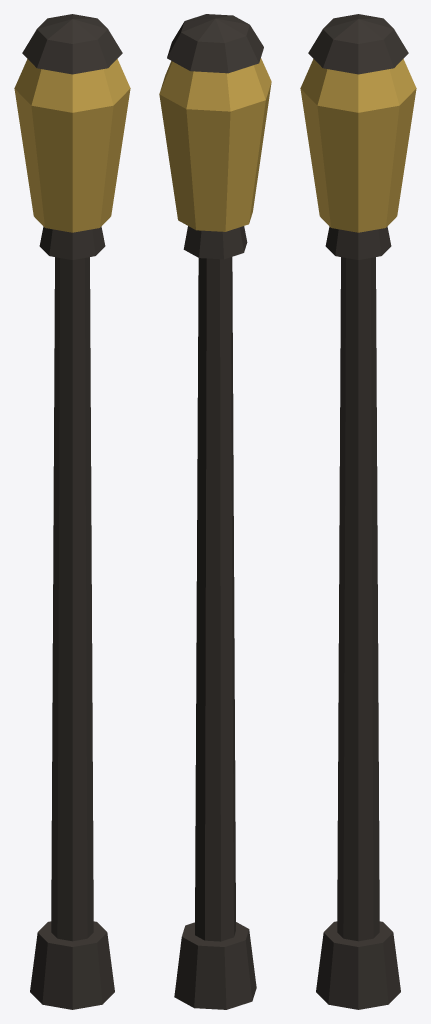
The model's file is sl_residential.glb.
3 renders of one model, left to right at view 1: azimuth 90°, elevation 25°; view 2: azimuth 150°, elevation 25°; view 3: azimuth 270°, elevation 25°, orthographic.
Visible parts, largest first — view 1: sl_residential_pole, sl_residential_lantern, sl_residential_base, sl_residential_cap, sl_residential_shoulder, sl_residential_collar; view 2: sl_residential_pole, sl_residential_lantern, sl_residential_base, sl_residential_cap, sl_residential_shoulder, sl_residential_collar; view 3: sl_residential_pole, sl_residential_lantern, sl_residential_base, sl_residential_cap, sl_residential_shoulder, sl_residential_collar.
Boxes of the visible parts, x1,y1,x2,y2 form: sl_residential_pole: (51,257,93,941); sl_residential_lantern: (14,88,130,232); sl_residential_base: (30,921,114,1009); sl_residential_cap: (22,14,122,74); sl_residential_shoulder: (14,59,130,112); sl_residential_collar: (39,226,105,259); sl_residential_pole: (195,257,235,941); sl_residential_lantern: (159,82,271,231); sl_residential_base: (174,922,256,1009); sl_residential_cap: (167,14,263,73); sl_residential_shoulder: (159,58,271,111); sl_residential_collar: (183,226,247,259); sl_residential_pole: (337,257,379,941); sl_residential_lantern: (300,88,416,232); sl_residential_base: (316,921,400,1009); sl_residential_cap: (308,14,408,74); sl_residential_shoulder: (300,59,416,112); sl_residential_collar: (325,226,391,259).
Bounding box in the file's own units: 0.6 × 5.55 × 0.6.
